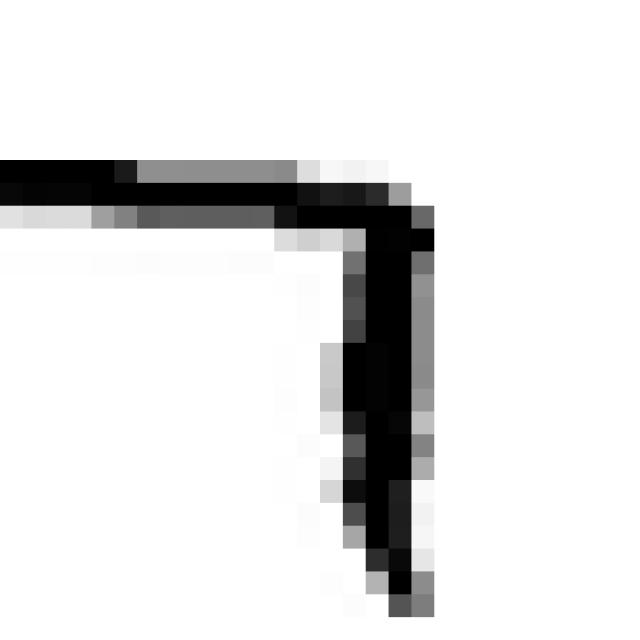6 -six-: (0, 139, 461, 640)
